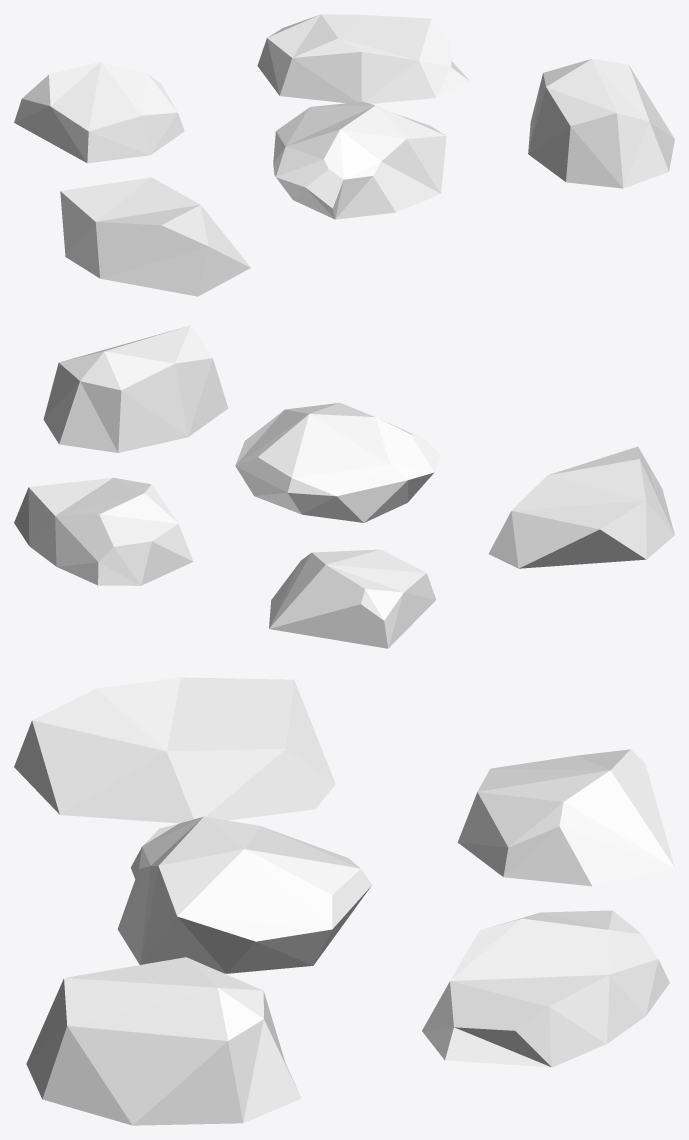
Rendered from Env_Pebbles_02.glb.
The picture shows the model from 3 angles, top to bottom: view 1: azimuth 30°, elevation 25°; view 2: azimuth 150°, elevation 25°; view 3: azimuth 270°, elevation 25°; orthographic projection. The views are drawn at different scales.
Visible parts, largest first — view 1: Env_Pebbles_02; view 2: Env_Pebbles_02; view 3: Env_Pebbles_02.
Part boxes in pixels (left/top/right/bottom): Env_Pebbles_02: left=14, top=14, right=674, bottom=296; Env_Pebbles_02: left=14, top=325, right=674, bottom=648; Env_Pebbles_02: left=14, top=677, right=674, bottom=1125.
Size of the model in its own units: 0.5379 by 0.0635 by 0.3764.
1 material, 1 textured.
